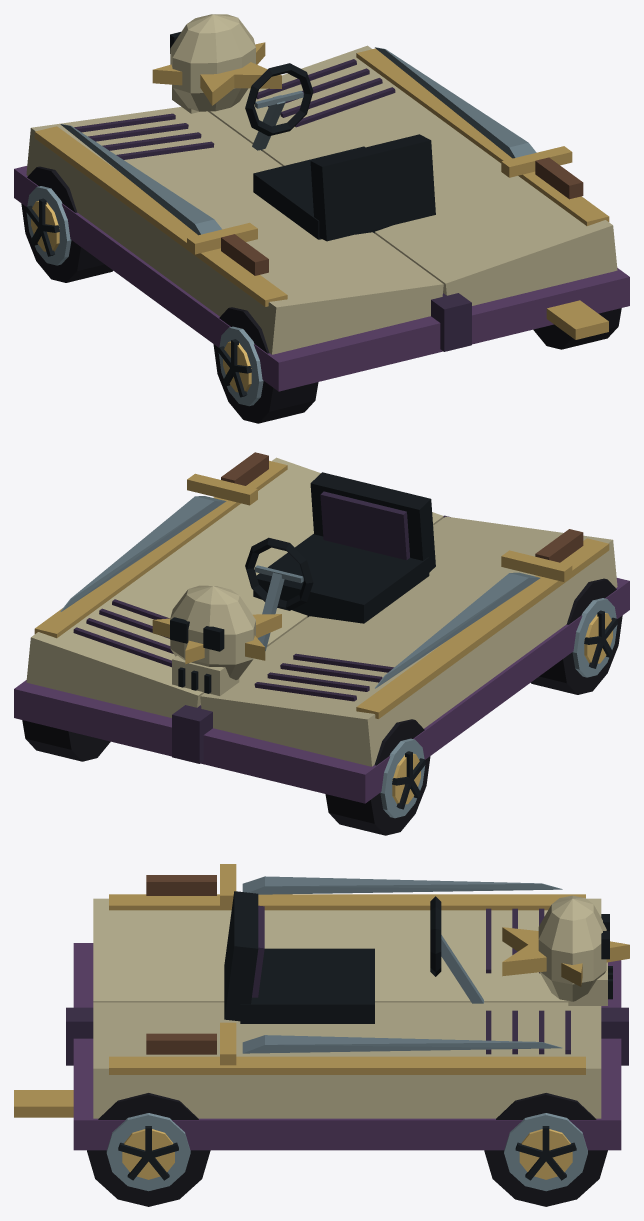
File: kart.glb
3 views of the same model, one above another, from view 1: azimuth 30°, elevation 25°; view 2: azimuth 150°, elevation 25°; view 3: azimuth 270°, elevation 25° (orthographic). The views are drawn at different scales.
Visible parts, largest first — view 1: identity-book-book-open-pages-and-spine, identity-book-driver-cockpit, identity-book-motif-swords, wheel-rear-left, identity-book-motif-skull, wheel-front-left, identity-book-motif-star, wheel-rear-right; view 2: identity-book-book-open-pages-and-spine, identity-book-driver-cockpit, identity-book-motif-swords, identity-book-motif-skull, wheel-front-left, wheel-rear-left, wheel-front-right, identity-book-motif-star; view 3: identity-book-book-open-pages-and-spine, identity-book-driver-cockpit, identity-book-motif-swords, wheel-front-right, wheel-rear-right, identity-book-motif-skull, identity-book-motif-star.
Part boxes in pixels (x1,y1,x2,y2): identity-book-book-open-pages-and-spine: [14, 45, 629, 391]; identity-book-driver-cockpit: [245, 63, 435, 241]; identity-book-motif-swords: [60, 47, 583, 275]; wheel-rear-left: [213, 307, 318, 423]; identity-book-motif-skull: [170, 14, 255, 113]; wheel-front-left: [21, 166, 112, 282]; identity-book-motif-star: [152, 42, 281, 105]; wheel-rear-right: [533, 308, 621, 349]; identity-book-book-open-pages-and-spine: [14, 457, 629, 803]; identity-book-driver-cockpit: [245, 472, 435, 650]; identity-book-motif-swords: [60, 452, 583, 688]; identity-book-motif-skull: [170, 585, 255, 695]; wheel-front-left: [325, 719, 430, 835]; wheel-rear-left: [531, 578, 622, 694]; wheel-front-right: [22, 720, 110, 761]; identity-book-motif-star: [152, 614, 281, 664]; identity-book-book-open-pages-and-spine: [14, 894, 628, 1150]; identity-book-driver-cockpit: [224, 891, 484, 1023]; identity-book-motif-swords: [146, 864, 562, 1065]; wheel-front-right: [484, 1093, 607, 1206]; wheel-rear-right: [87, 1093, 210, 1206]; identity-book-motif-skull: [538, 895, 612, 1005]; identity-book-motif-star: [502, 927, 629, 986].
Bounding box in the file's own units: 2.04 × 1.1 × 2.79.
